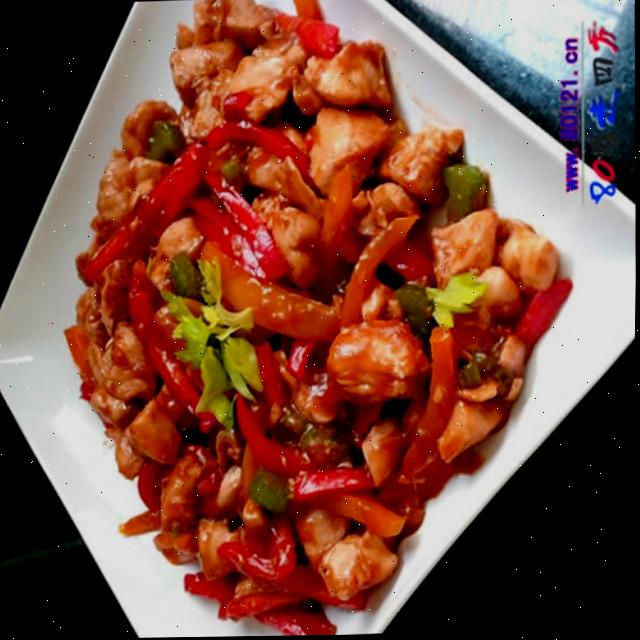鸡肉料理 含炸鸡: (28, 0, 570, 640)
